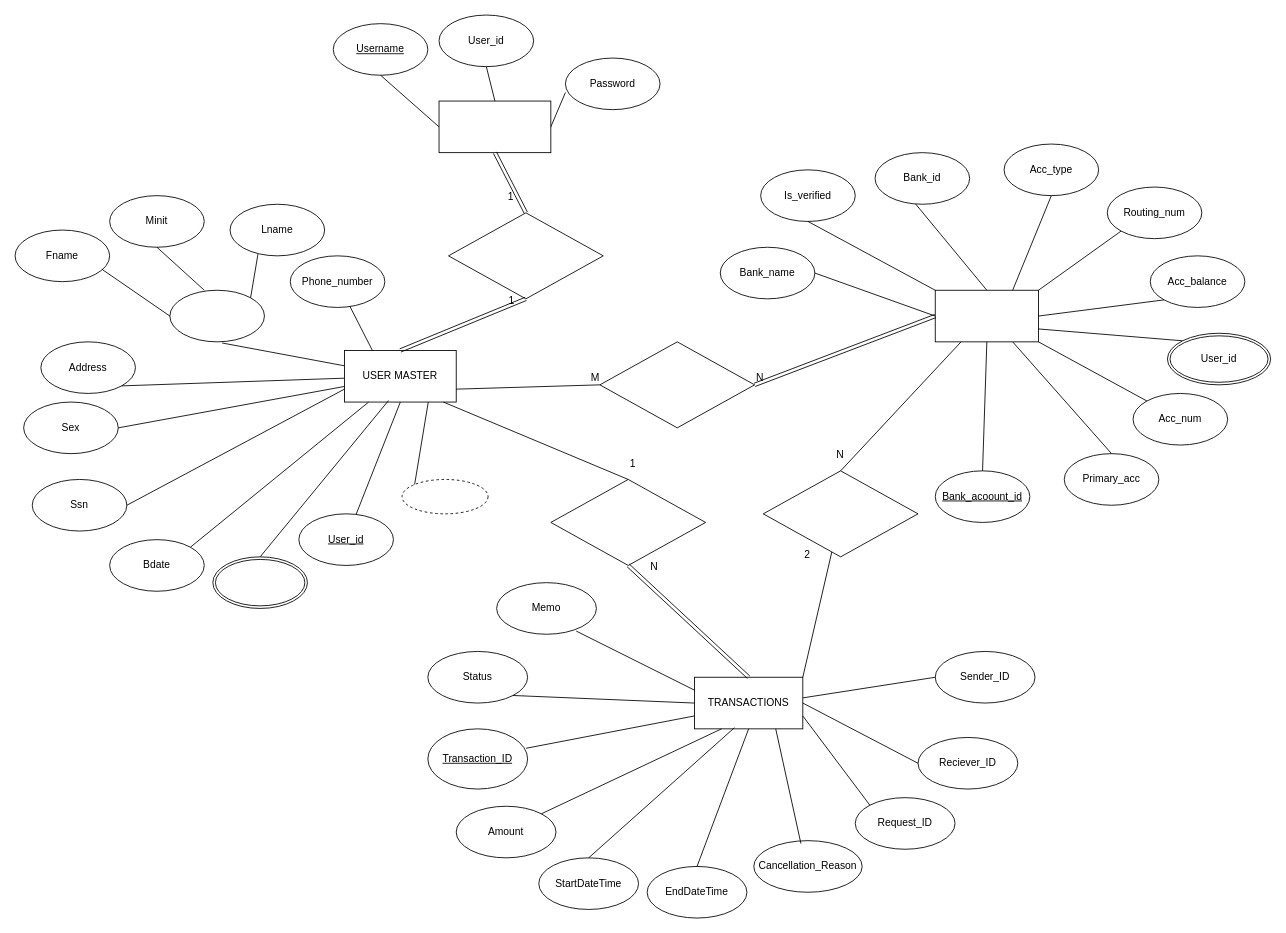
Image size: 1286x933. Some labels were removed from this diagram. Here are the shapes that lost their labels. From the top down, the centre of each, then its label:
the point at 494,126: LOGIN_DETAILS
the point at 525,255: CREATES
the point at 216,315: Name
the point at 986,315: BANK DETAILS
the point at 677,384: LINKS
the point at 444,496: NumOfUsers
the point at 840,513: ACCESS_DATA
the point at 628,522: GENERATES
the point at 259,582: Email_id
